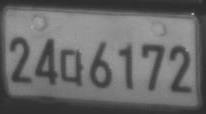1: (115, 42, 138, 90)
2: (8, 36, 32, 83), (169, 45, 191, 92)
4: (34, 38, 58, 85)
6: (89, 40, 112, 89)
7: (140, 43, 166, 91)
다: (60, 48, 85, 86)
